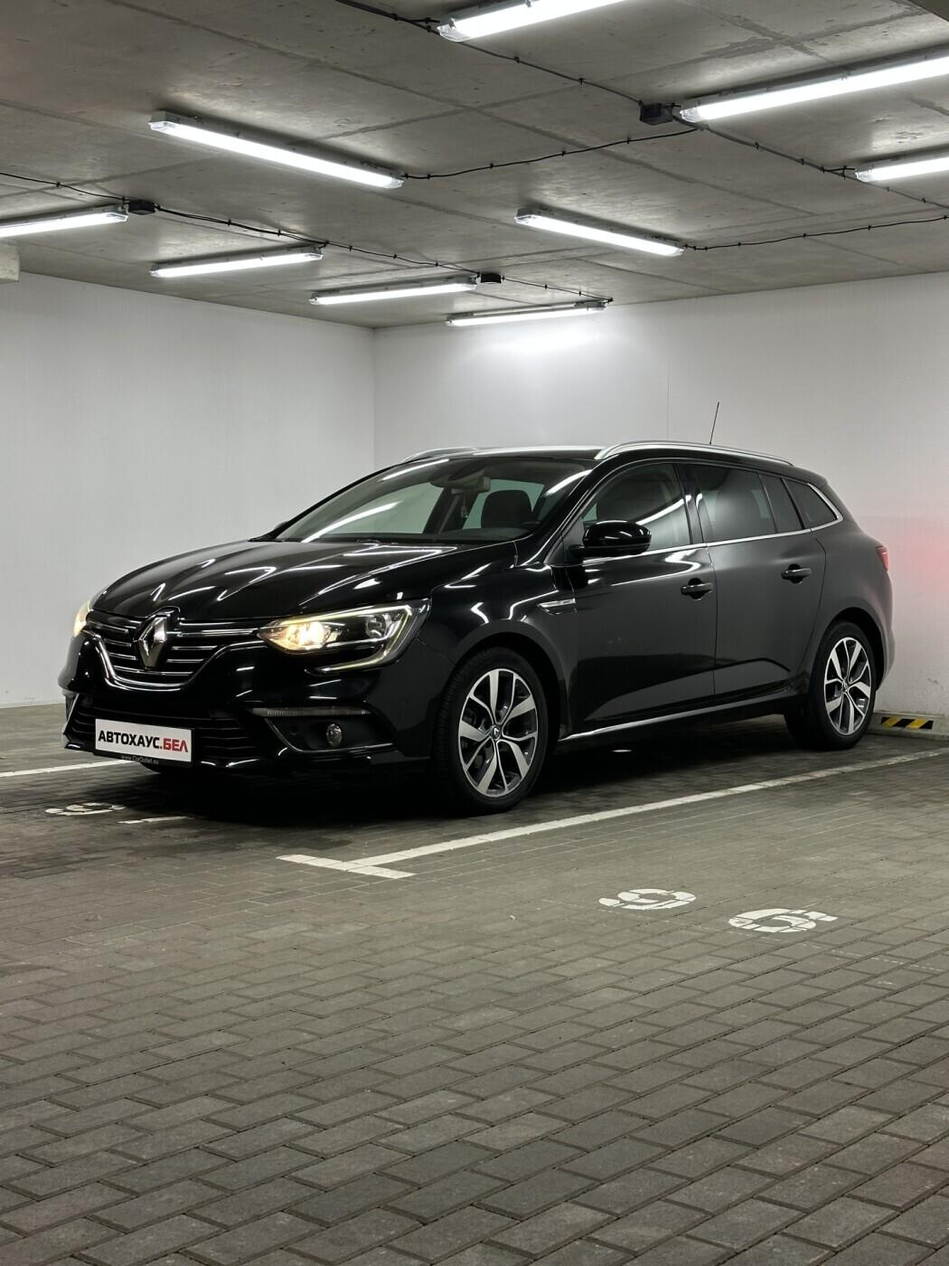Megane_2016-2020: (60, 430, 913, 828)
